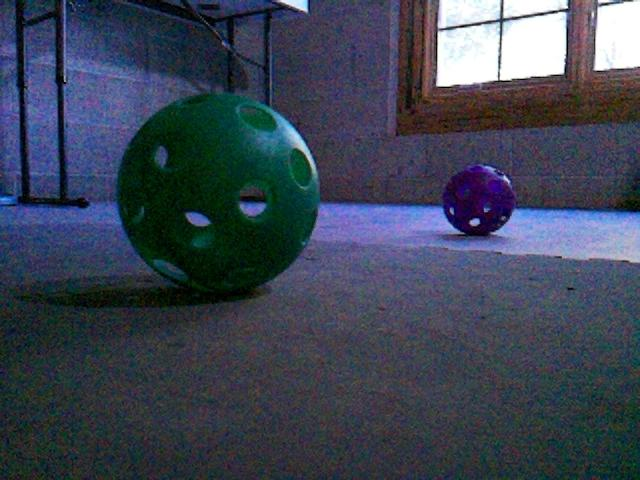Green: (114, 92, 321, 295)
Purple: (439, 164, 516, 236)
